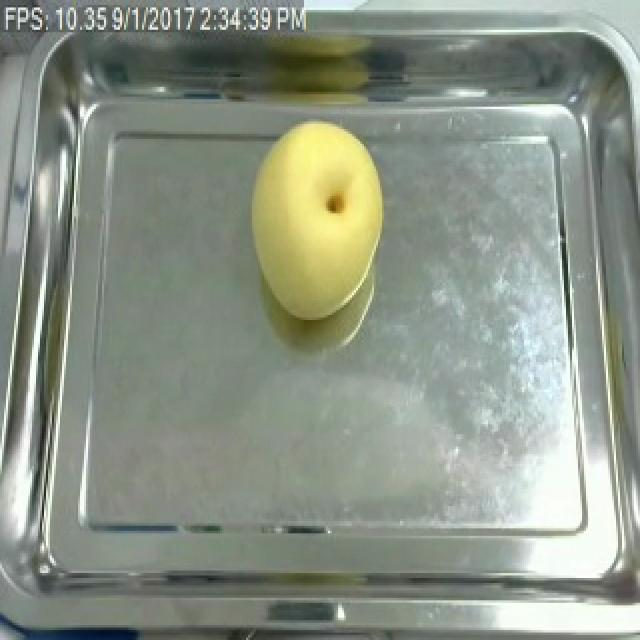Fruit: (240, 109, 392, 328)
